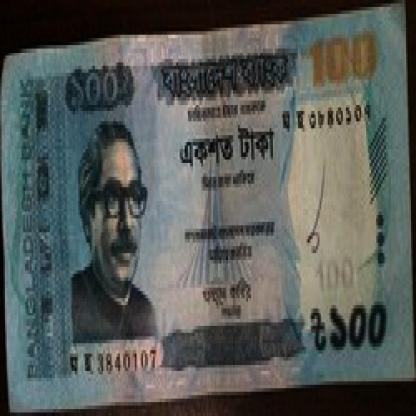one hundred taka: (324, 291, 402, 361), (306, 28, 388, 94), (51, 73, 140, 114)
